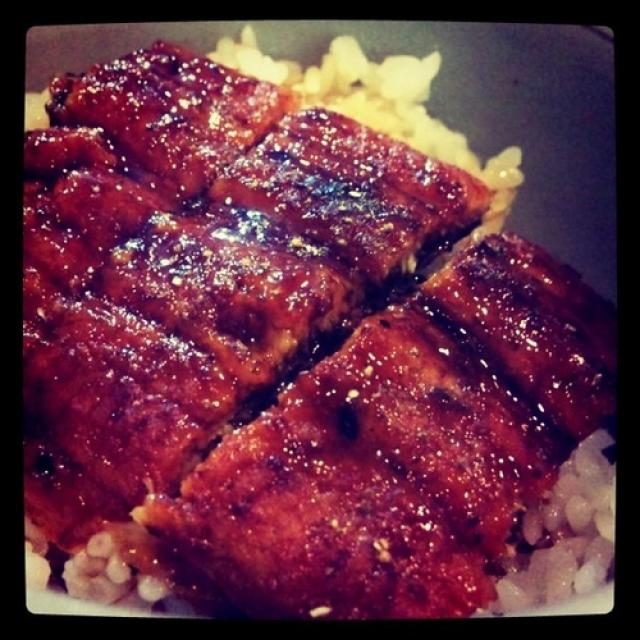熟制海鲜: (26, 47, 608, 608)
